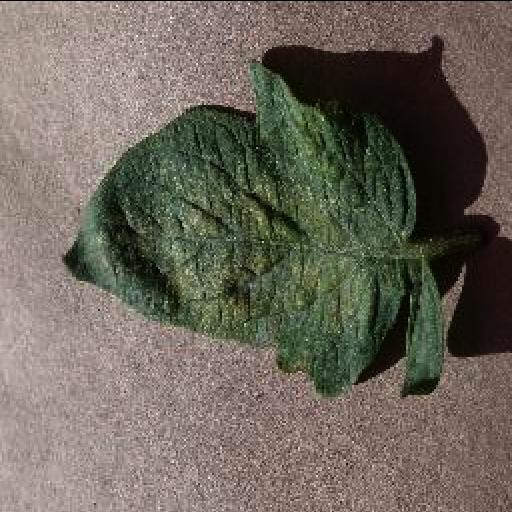disease_tomato: (58, 58, 418, 400)
